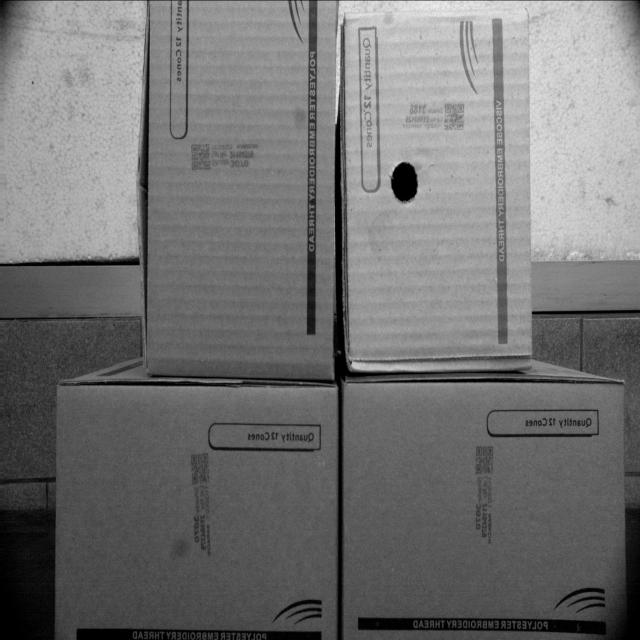cardboxes: (339, 380, 633, 639), (141, 0, 339, 380), (52, 380, 336, 639), (344, 14, 540, 368)
